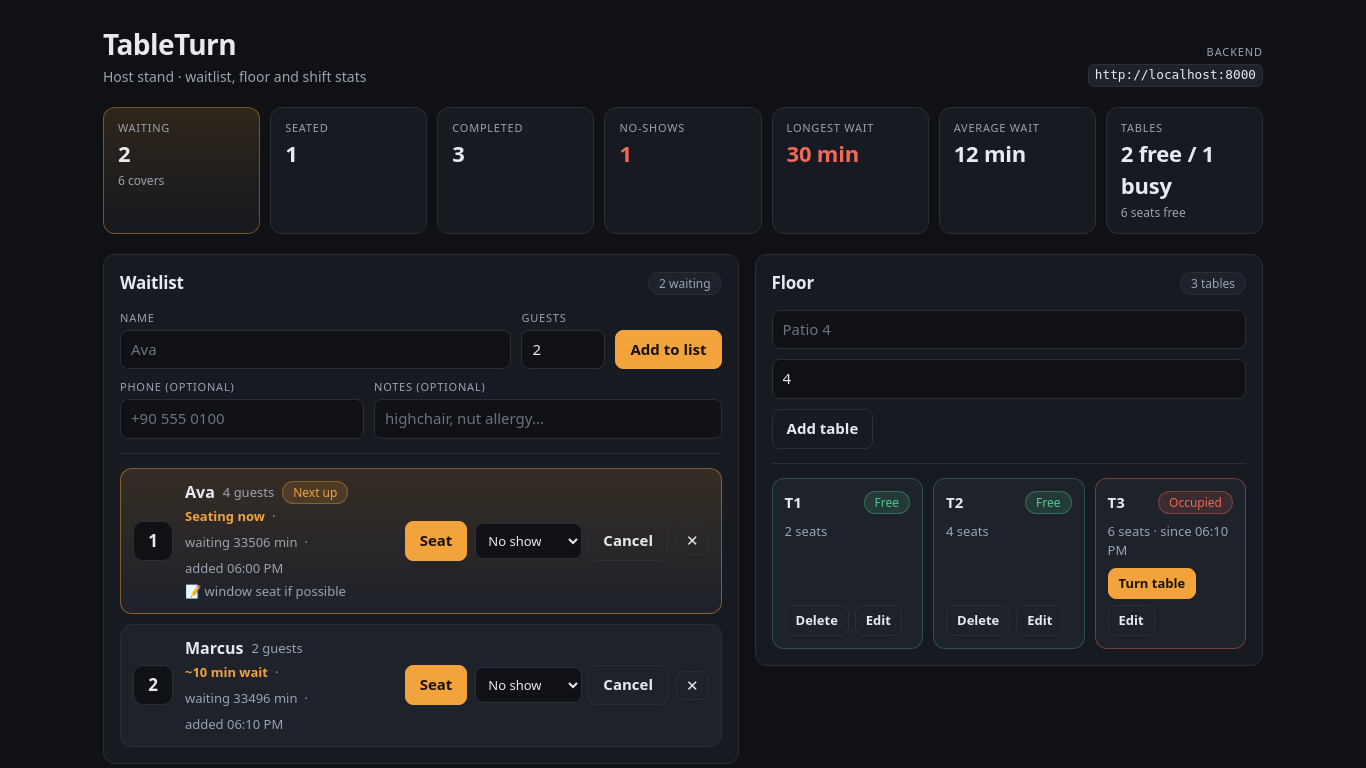
App › refuses to submit an empty party name
Click the button "Add to list" at coordinates (669, 350), box [616,330,722,369]
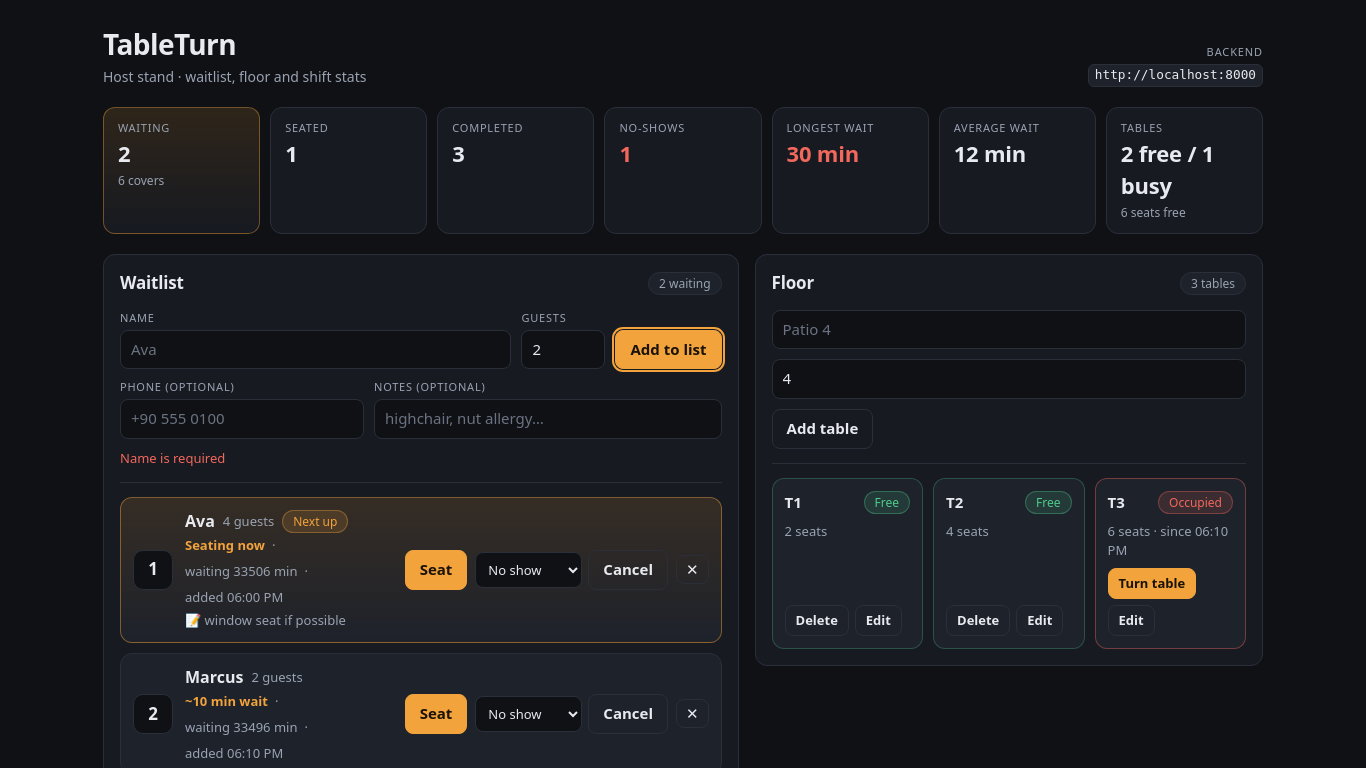
Now the message reads "Name is required", box [120,449,225,467]
